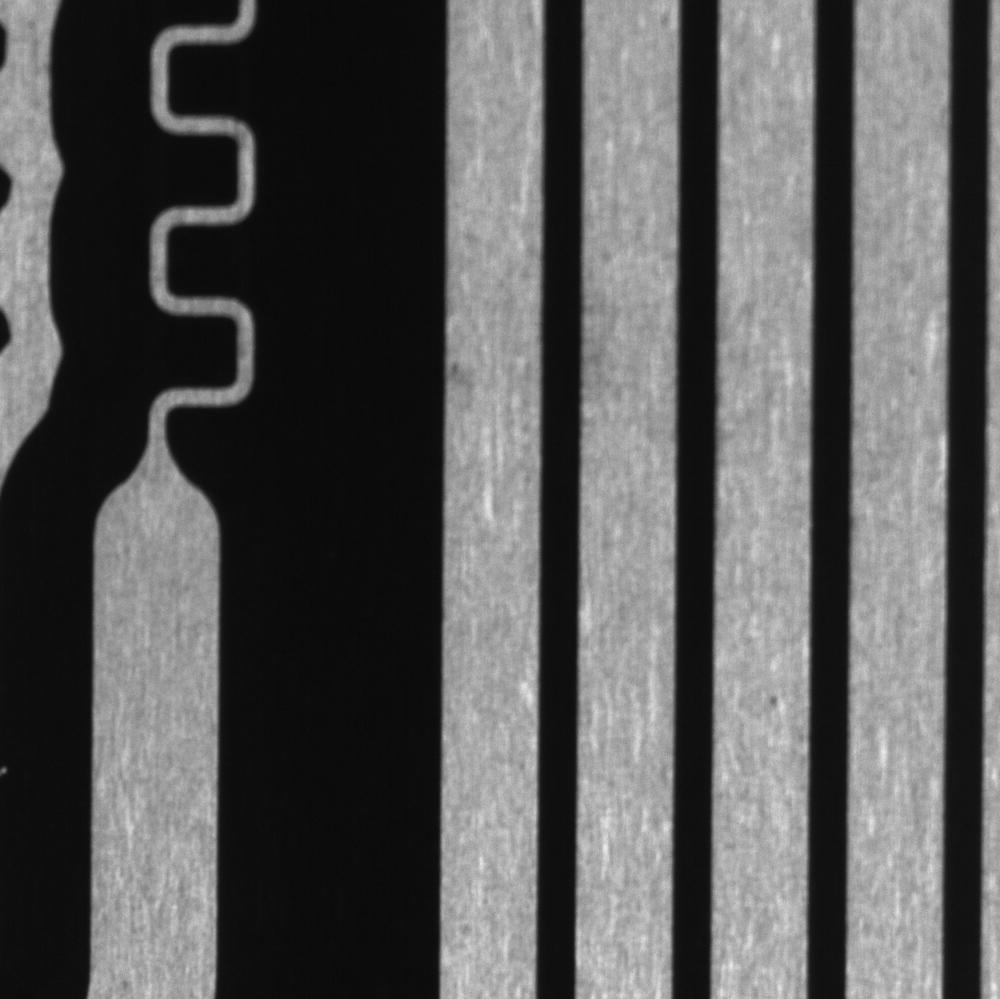Pinhole: (755, 677, 793, 724)
